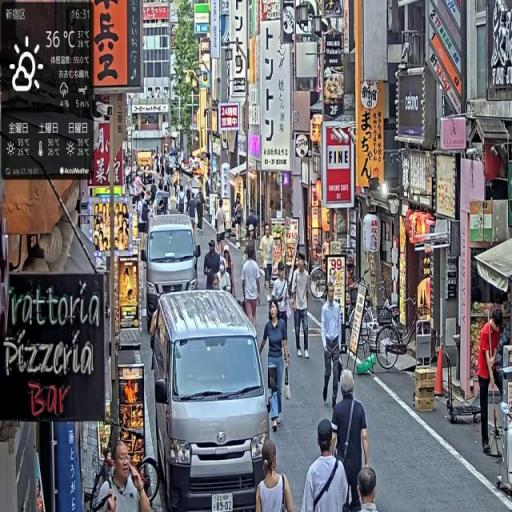person: (332, 370, 371, 511), (303, 418, 352, 512), (477, 309, 507, 460), (260, 299, 291, 433), (99, 438, 150, 512), (321, 280, 344, 411), (256, 439, 297, 512), (291, 254, 312, 359), (243, 243, 263, 335), (261, 223, 276, 306), (355, 468, 383, 512), (204, 240, 221, 288), (196, 188, 206, 236)
